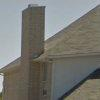Chimney: (16, 3, 53, 70)
